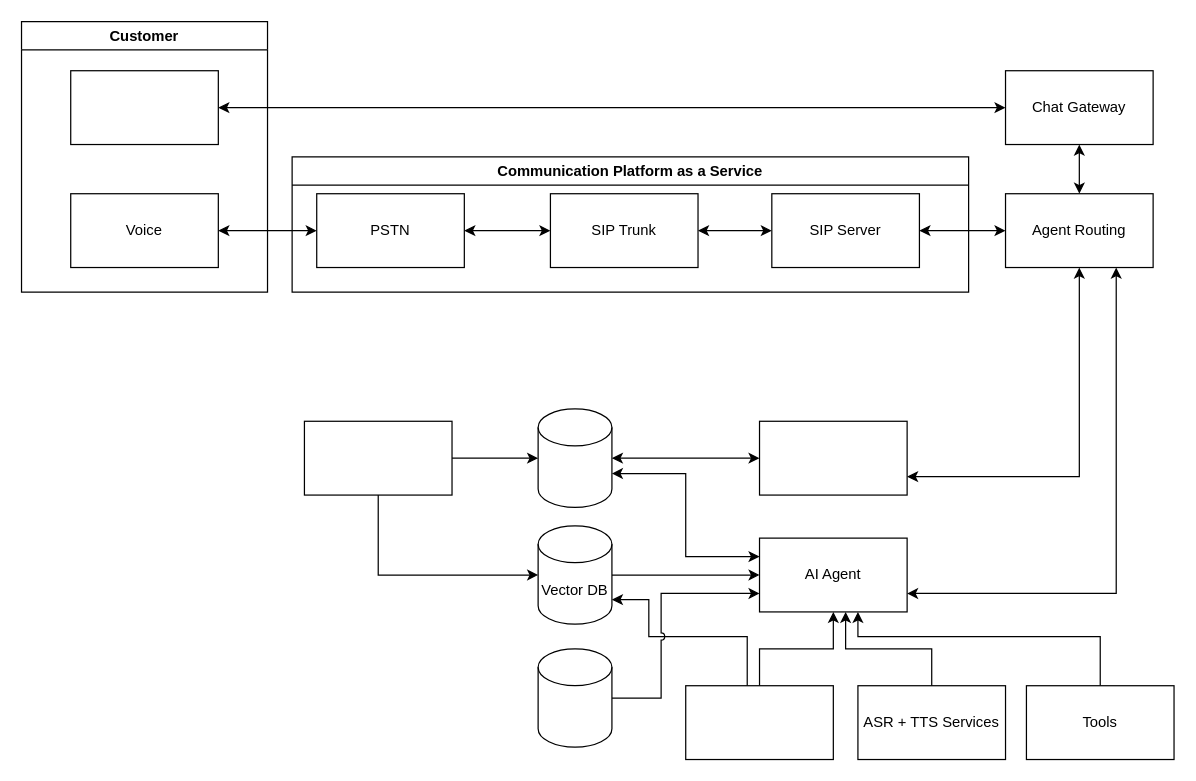
Image size: 1196x781. Some labels were removed from this diagram. Each missing label, with the centre of its shape:
Cache: the point at 574,697
DB: the point at 574,457
Human Agent: the point at 832,457
Knowledge Manager: the point at 377,457
LLM Services Chat, Embed, Reranking, Safety: the point at 758,722
Web/Mobile: the point at 143,107
